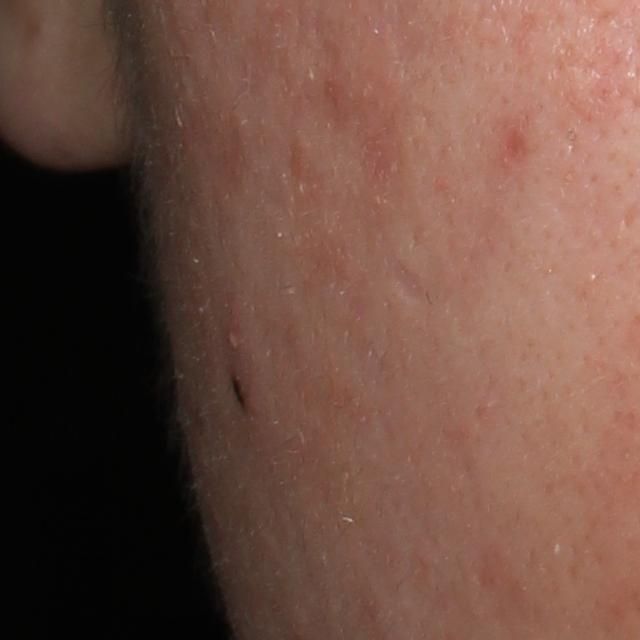atrophic_scar: (381, 249, 433, 303)
nevus: (231, 372, 252, 416)
